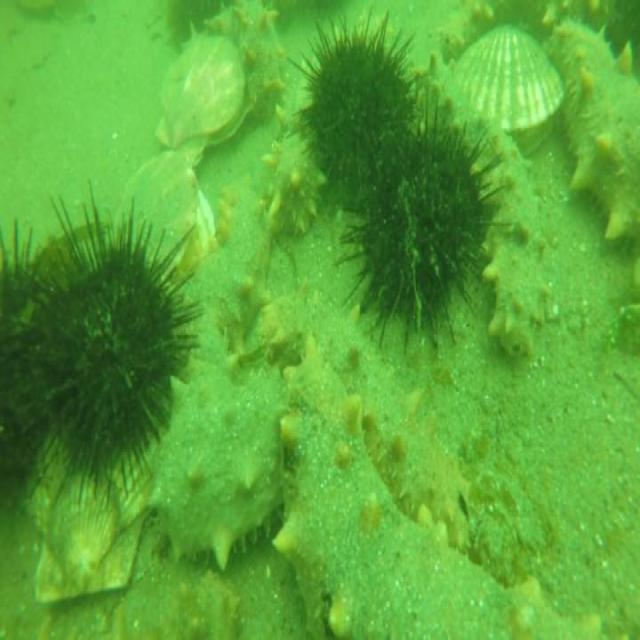echinus: (27, 194, 201, 514), (342, 89, 502, 338), (292, 5, 424, 224), (0, 216, 63, 501), (161, 0, 223, 44)
holothurian: (281, 344, 640, 640), (281, 356, 608, 635), (429, 57, 547, 355), (145, 344, 281, 574), (546, 9, 640, 252), (30, 565, 243, 640), (183, 175, 272, 340), (264, 55, 328, 234), (236, 0, 284, 122), (440, 0, 498, 65)
scallop: (18, 422, 154, 611), (452, 25, 566, 161), (115, 154, 214, 296), (158, 28, 245, 154)
